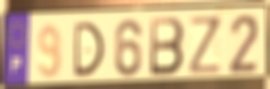2: (228, 12, 262, 77)
6: (114, 17, 144, 79)
9: (36, 22, 65, 80)
B: (148, 16, 186, 79)
D: (72, 20, 107, 79)
Z: (188, 14, 223, 76)
